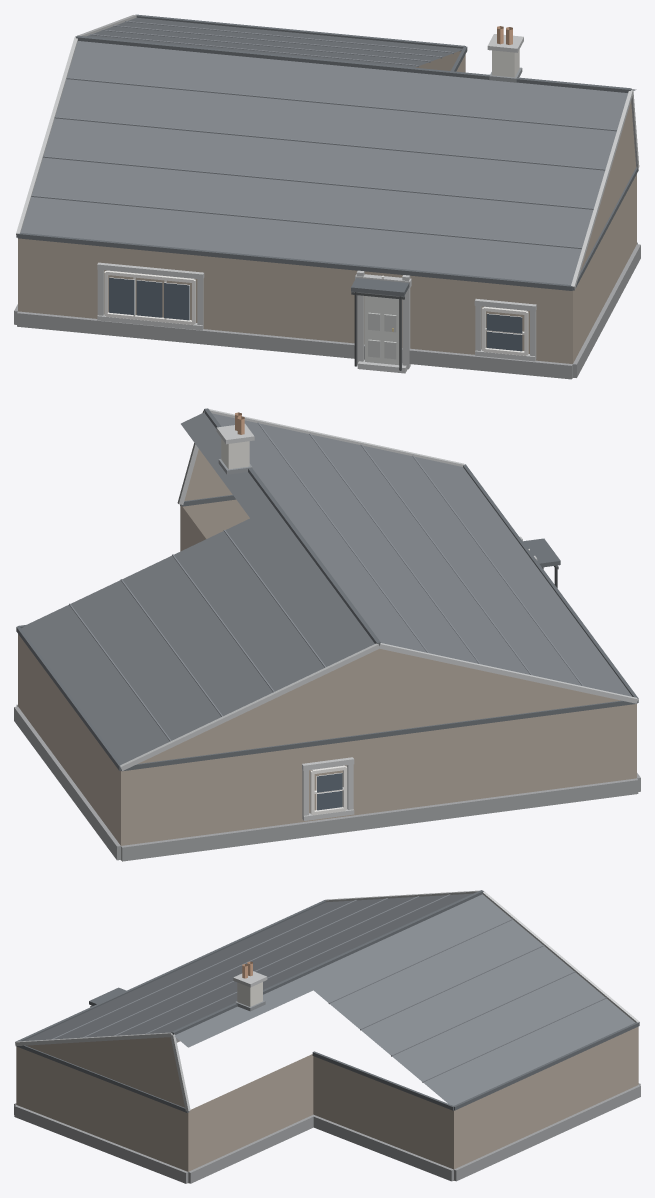
3 views of the same model, one above another, from view 1: azimuth 30°, elevation 25°; view 2: azimuth 150°, elevation 25°; view 3: azimuth 270°, elevation 25° (orthographic). The views are drawn at different scales.
Visible parts, largest first — view 1: slate, harl_brown, slate_dk, plinth, stone_band, slate_lt, frame, door_cad, window_glass_002, window_glass_001, window_glass_003, door_cad_p (+4 smaller); view 2: slate, harl_brown, plinth, slate_dk, stone_band, slate_lt, frame, chim_render; view 3: slate, harl_brown, plinth, slate_dk, slate_lt, stone_band, chim_render.
Part boxes in pixels (x1,y1,x2,y2): slate: (20, 17, 636, 284); harl_brown: (18, 51, 636, 363); slate_dk: (16, 14, 638, 296); plinth: (14, 242, 640, 379); stone_band: (16, 15, 639, 373); slate_lt: (31, 21, 616, 249); frame: (104, 270, 528, 355); door_cad: (365, 296, 399, 365); window_glass_002: (136, 280, 162, 317); window_glass_001: (109, 277, 134, 315); window_glass_003: (164, 282, 189, 320); door_cad_p: (368, 312, 396, 359); slate: (21, 413, 632, 764); harl_brown: (18, 449, 636, 860); plinth: (14, 704, 640, 861); slate_dk: (16, 408, 638, 771); stone_band: (120, 409, 638, 820); slate_lt: (69, 422, 583, 741); frame: (310, 549, 529, 815); chim_render: (221, 438, 249, 469); slate: (24, 893, 635, 1105); harl_brown: (16, 1026, 638, 1183); plinth: (14, 1037, 640, 1183); slate_dk: (15, 890, 639, 1112); slate_lt: (51, 894, 606, 1082); stone_band: (15, 890, 639, 1111); chim_render: (237, 982, 262, 1006).
Size of the model in its own units: 16.54 by 6.82 by 20.76.
